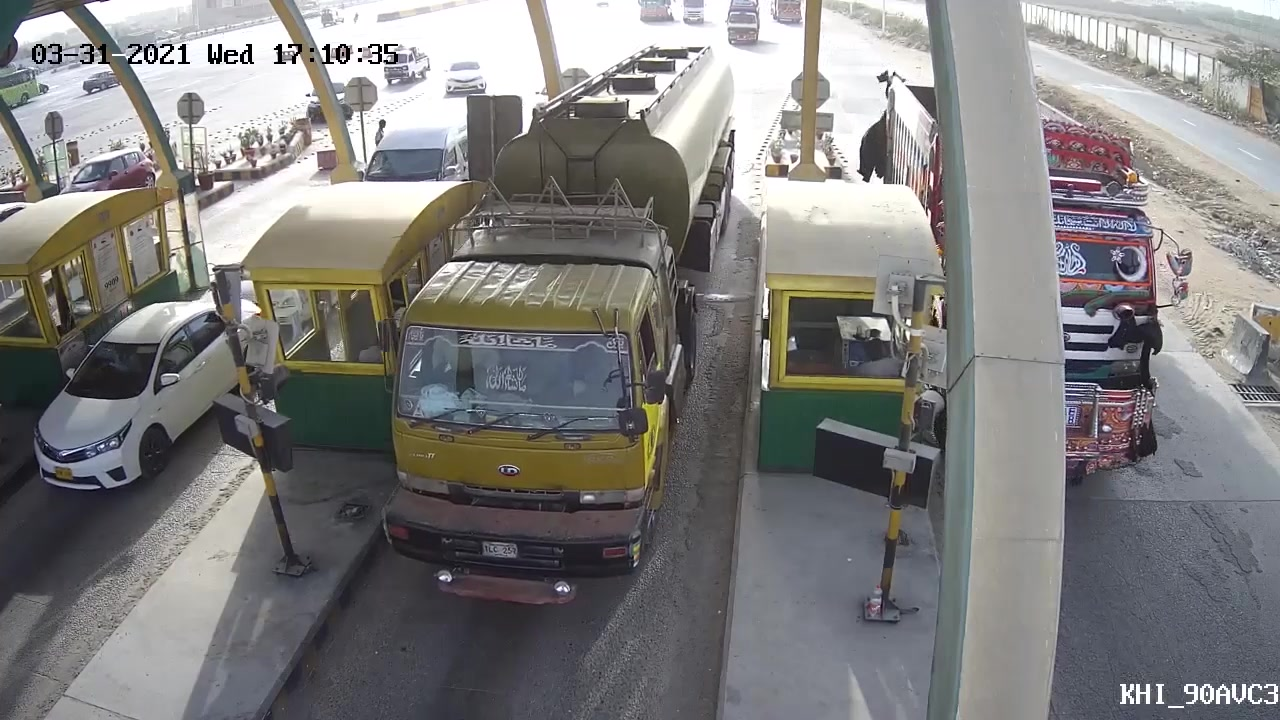F6: (379, 38, 742, 613)
